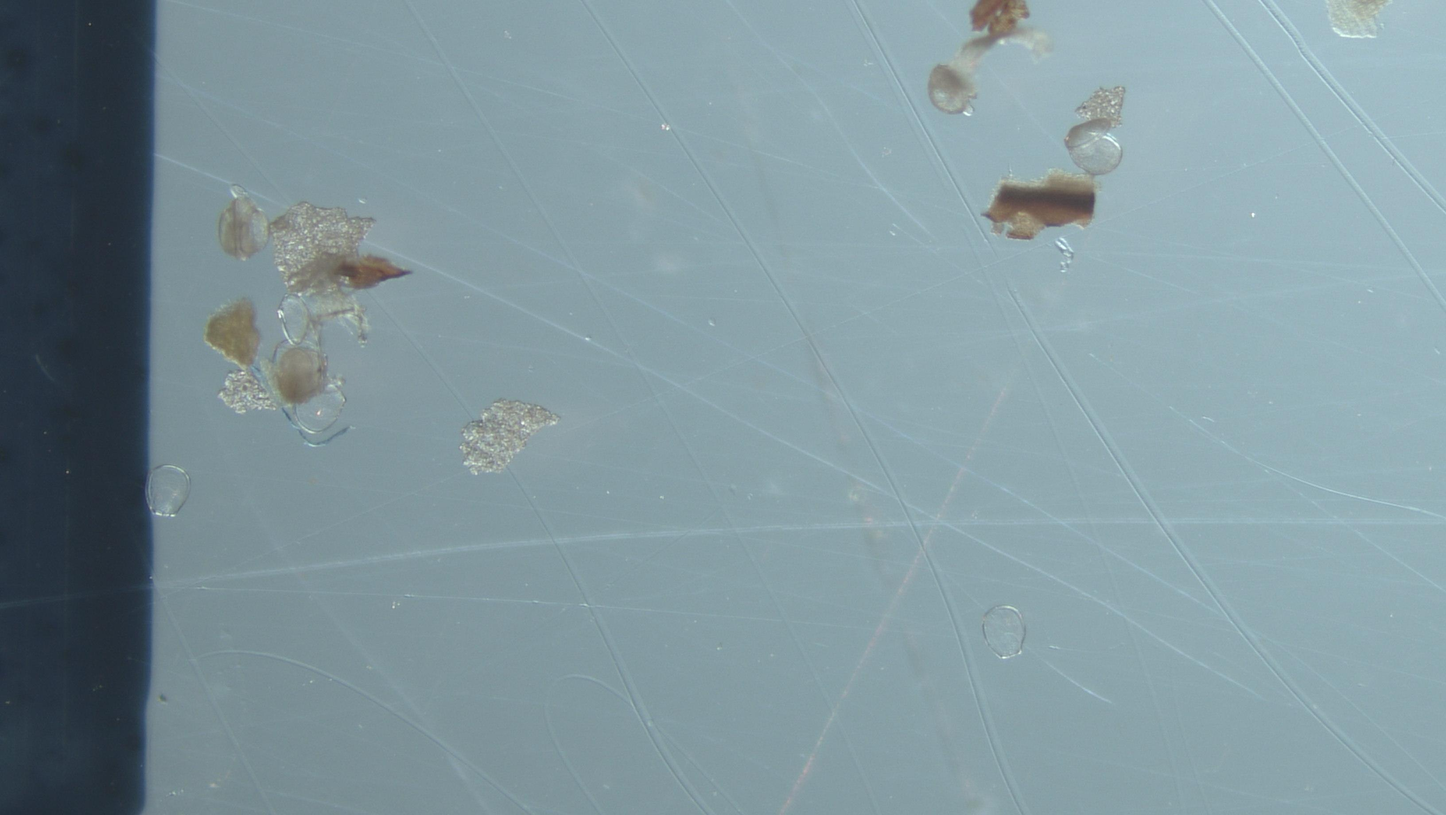dead: (1066, 120, 1122, 175), (294, 382, 345, 433), (982, 606, 1026, 659), (146, 465, 190, 516), (278, 294, 313, 343)
live: (218, 186, 269, 260), (273, 345, 326, 404), (928, 63, 976, 114)
